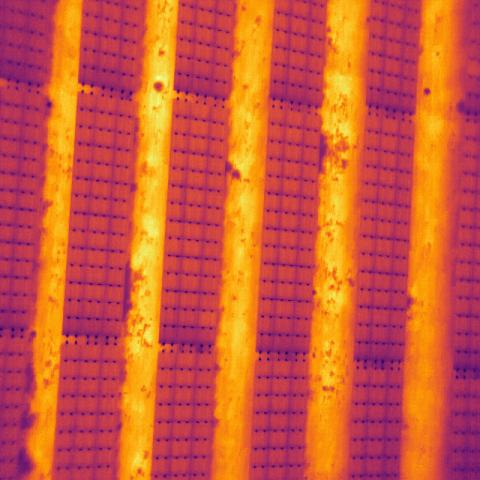fault: (198, 310, 216, 330)
